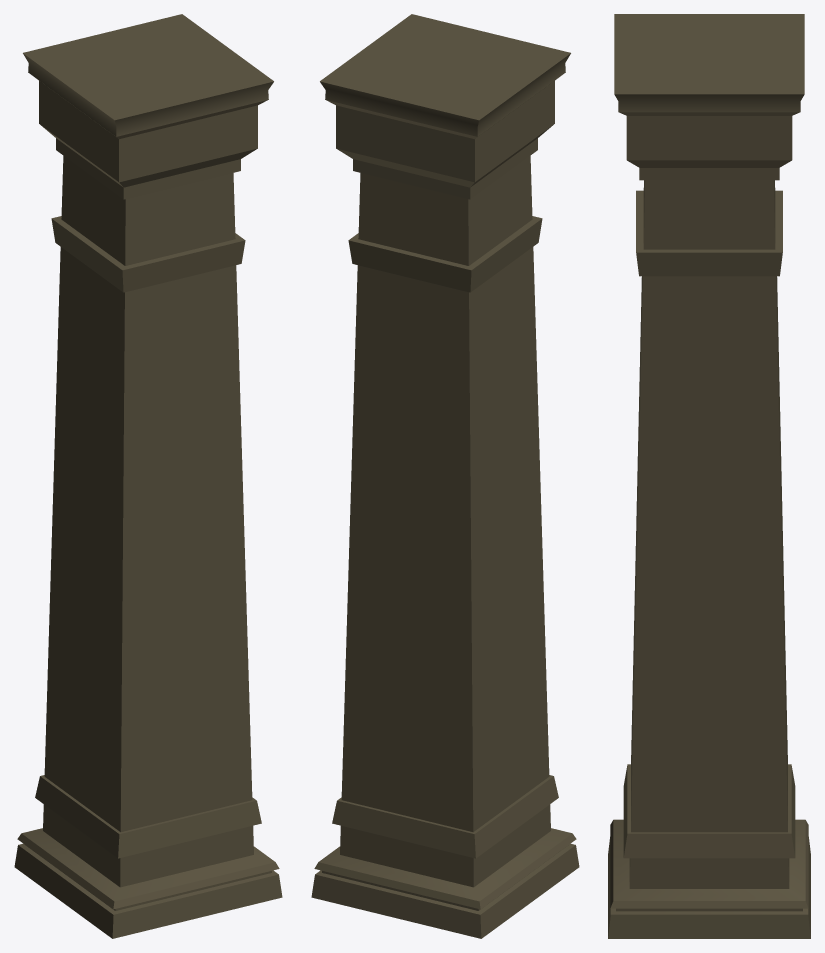
File: Column_SquareBig.obj
3 views of the same model, side by side, from view 1: azimuth 30°, elevation 25°; view 2: azimuth 150°, elevation 25°; view 3: azimuth 270°, elevation 25° (orthographic). The views are drawn at different scales.
Parts seen in each view (by area): view 1: Column_SquareBig_Cube.062; view 2: Column_SquareBig_Cube.062; view 3: Column_SquareBig_Cube.062.
Boxes of the visible parts, x1,y1,x2,y2 form: Column_SquareBig_Cube.062: [14, 14, 282, 938]; Column_SquareBig_Cube.062: [311, 14, 579, 938]; Column_SquareBig_Cube.062: [608, 14, 810, 938].
Size of the model in its own units: 0.9073 by 4.16 by 0.9073.
